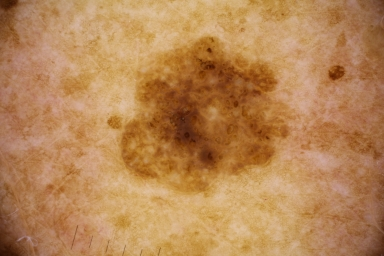seborrheic keratosis: (104, 28, 305, 206)
